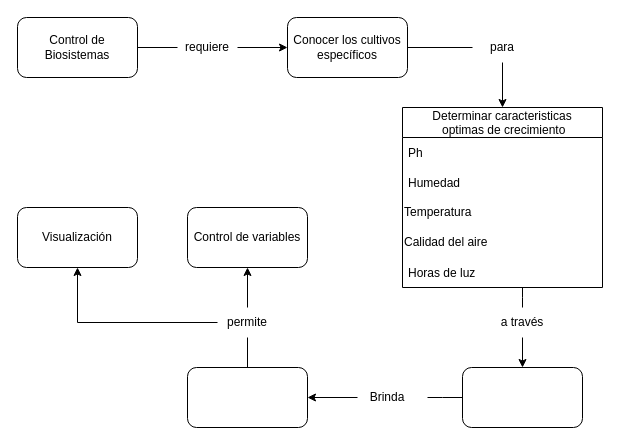
This 620x445 diagram has some shape labels left out. The box of each missing label's shape, as (x1, y1, x2, y2) in pixels:
Información para procesamiento: (186, 366, 308, 428)
Sensado: (462, 366, 582, 428)
